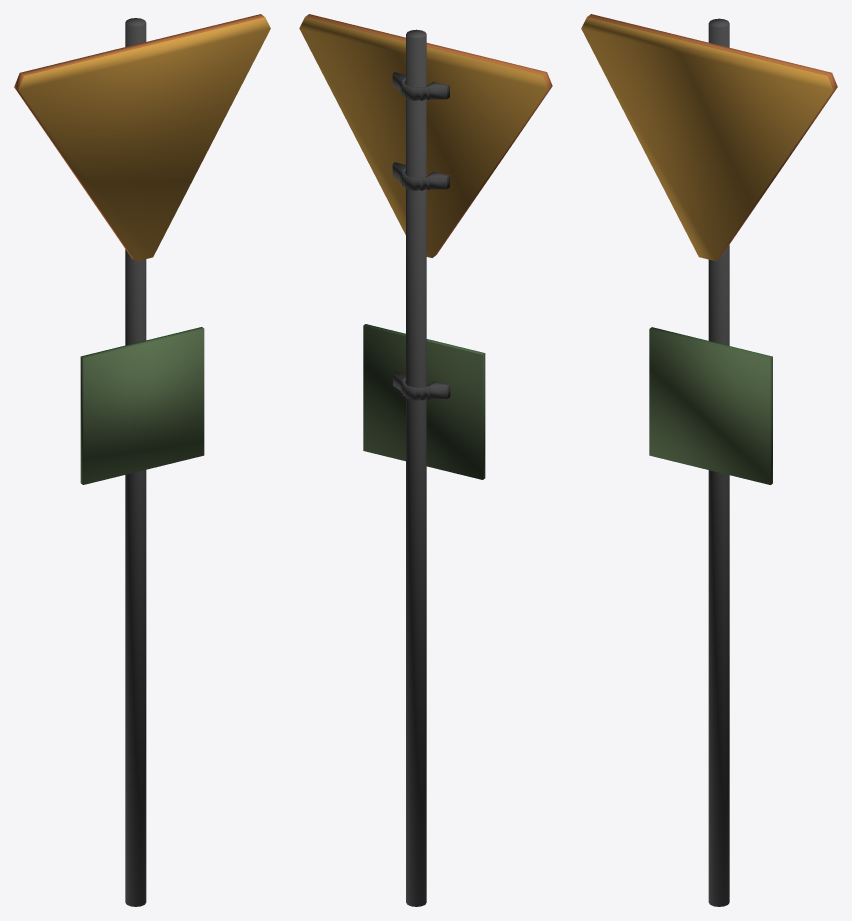
File: furnishings-signs-roadsign_v5.glb
3 renders of one model, left to right at view 1: azimuth 30°, elevation 25°; view 2: azimuth 150°, elevation 25°; view 3: azimuth 330°, elevation 25°, orthographic.
Parts seen in each view (by area): view 1: Roadsign_v5; view 2: Roadsign_v5; view 3: Roadsign_v5.
Boxes of the visible parts, x1,y1,x2,y2 form: Roadsign_v5: (14, 14, 270, 906); Roadsign_v5: (299, 14, 552, 906); Roadsign_v5: (581, 14, 837, 906).
Bounding box in the file's own units: 0.76 × 2.53 × 0.0873.
